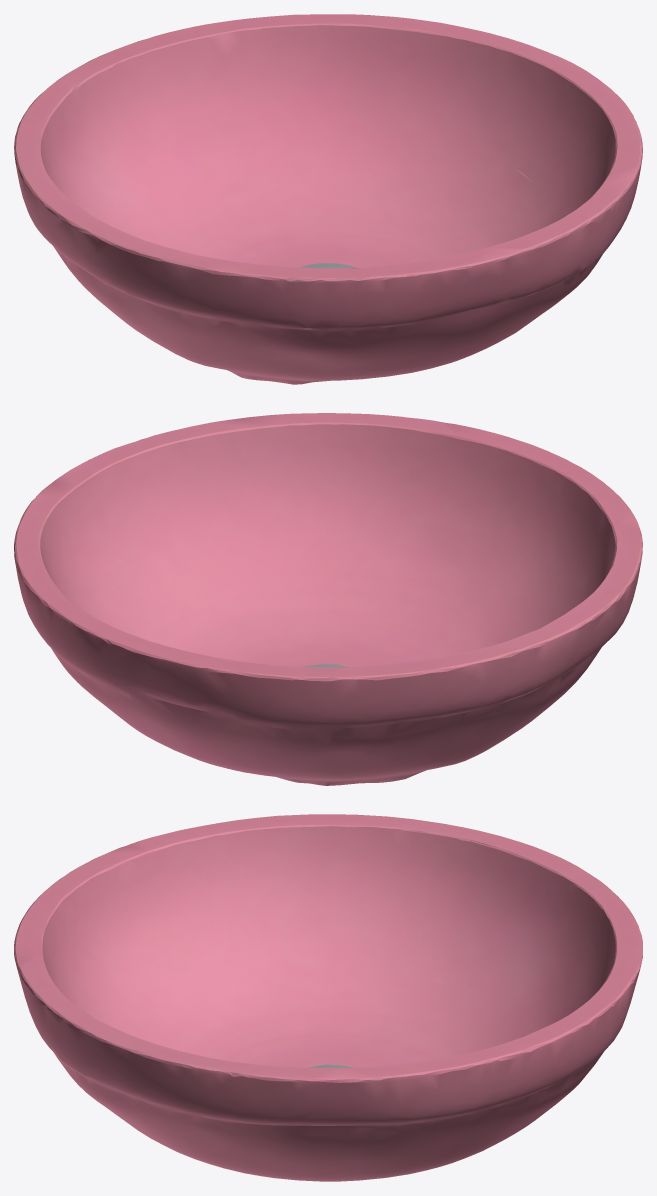
File: plastic-basin.glb
3 renders of one model, top to bottom at view 1: azimuth 30°, elevation 25°; view 2: azimuth 150°, elevation 25°; view 3: azimuth 270°, elevation 25°, orthographic.
Visible parts, largest first — view 1: model; view 2: model; view 3: model.
Boxes of the visible parts, x1,y1,x2,y2 form: model: (14,14,642,384); model: (14,413,642,785); model: (14,814,642,1181).
Bounding box in the file's own units: 1.9 × 0.5956 × 1.9.
1 material, 1 textured.
